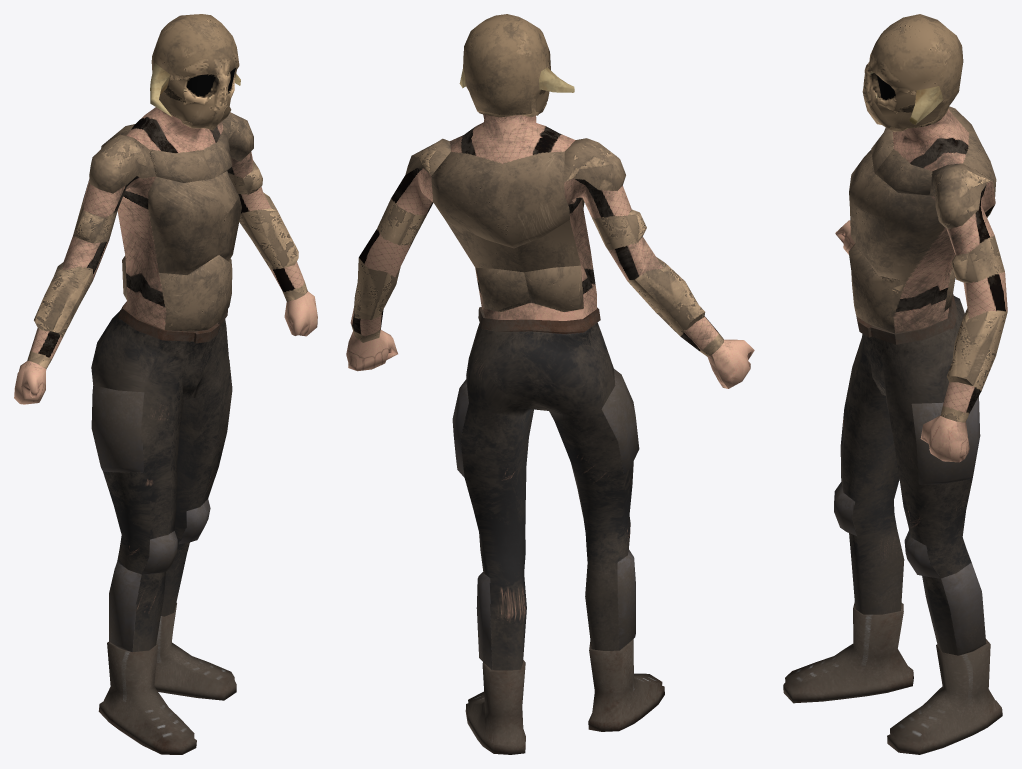
File: Anim_interruptor_npc1.0033.obj
3 views of the same model, side by side, from view 1: azimuth 30°, elevation 25°; view 2: azimuth 150°, elevation 25°; view 3: azimuth 270°, elevation 25° (orthographic). The views are drawn at different scales.
Parts seen in each view (by area): view 1: NPC2; view 2: NPC2; view 3: NPC2.
Part boxes in pixels (box(x1,y1,x2,y2)): NPC2: box(14, 14, 317, 754); NPC2: box(346, 14, 754, 754); NPC2: box(783, 14, 1007, 754).
Size of the model in its own units: 5.09 by 9.6 by 2.73.
